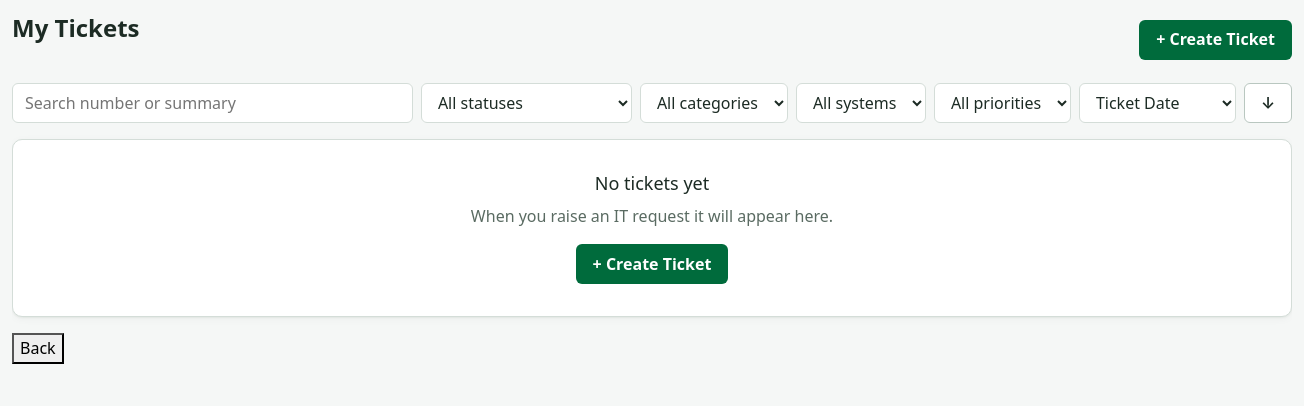
Test: UI-39: changing a filter writes the URL, so Back restores the previous filter › in My Tickets, a filter chosen while a search is pending is kept
The width and height of the screenshot is (1304, 406).
Step 1. Type "vpn" into the search field named "Search tickets" → (212, 103), box left=12, top=83, right=413, bottom=123
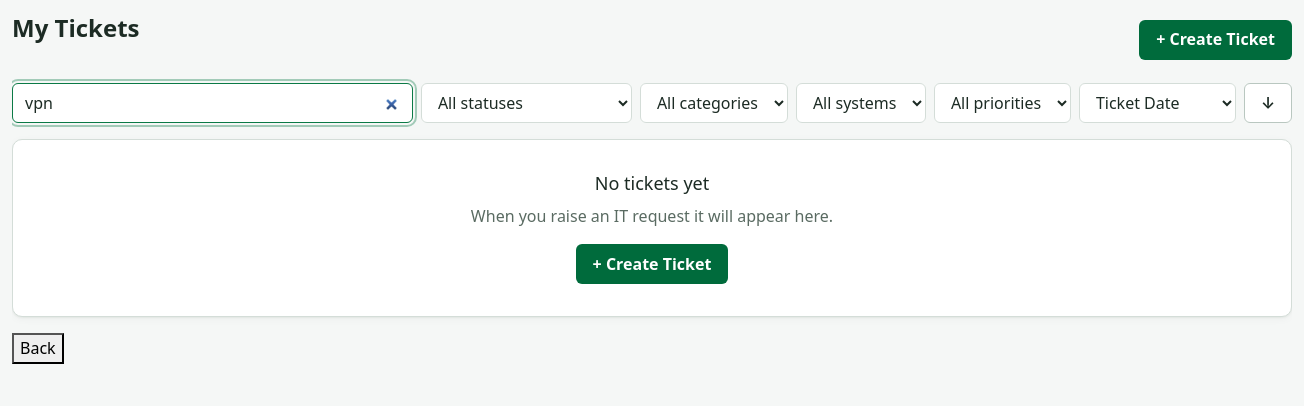
Step 2. Select "High" in the dropdown named "Filter by priority" → (1002, 103), box left=934, top=83, right=1071, bottom=123
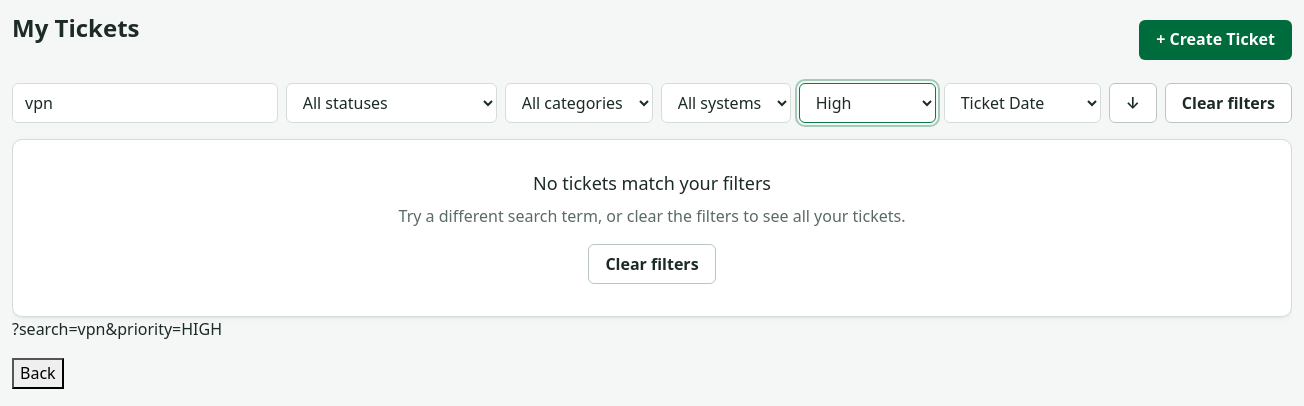
Check: the text with test id "search" shows "search=vpn", box left=12, top=318, right=222, bottom=340
Check: the text with test id "search" shows "priority=HIGH", box left=12, top=318, right=222, bottom=340
